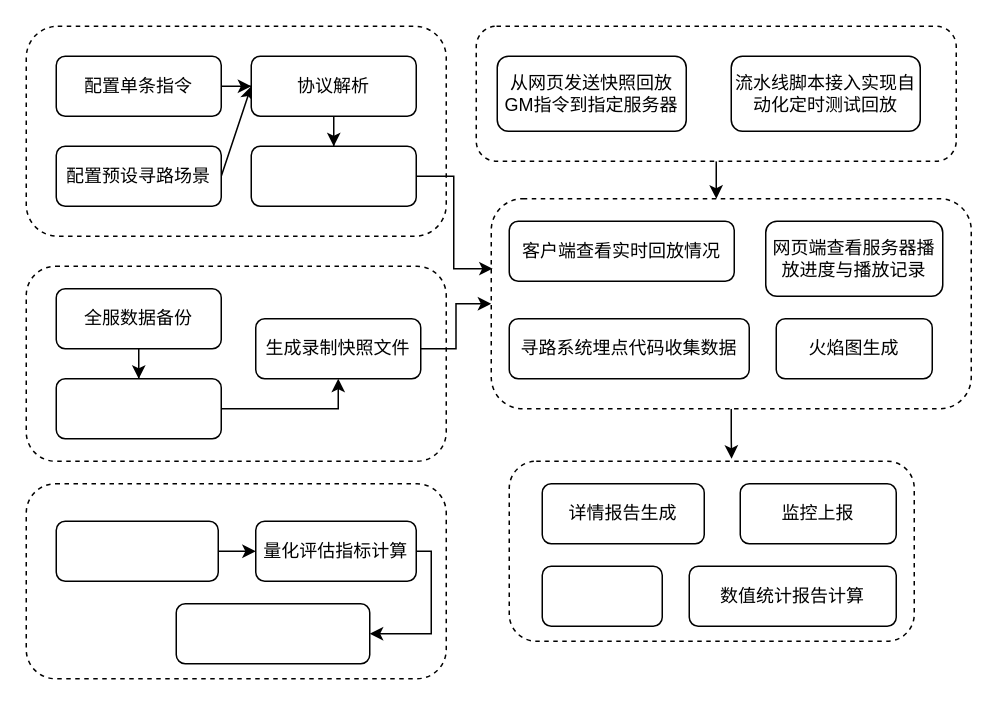
Image size: 998x705. Some labels were removed from this diagram. Each missing label, with the centre of its shape:
日志输出: the point at 601,595
玩家指令序列记录: the point at 138,408
生成配置快照文件: the point at 333,175
量化报告可视化查看: the point at 272,633
量化指标评估寻路场景配置: the point at 136,550
